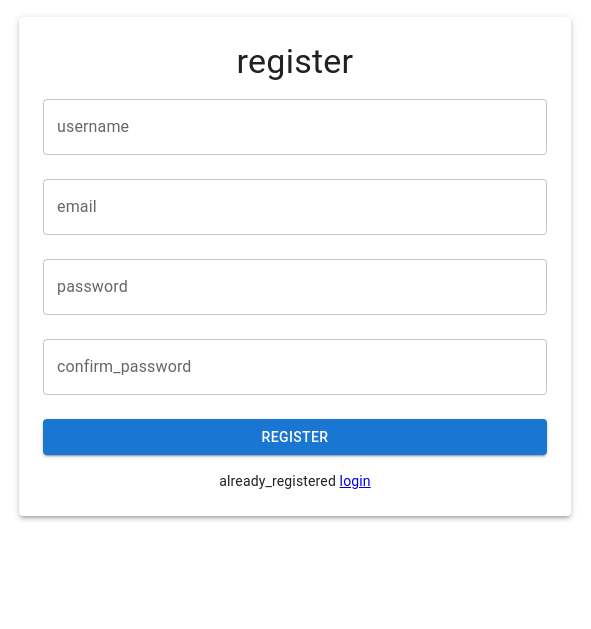
Test: Register Component › shows validation errors on empty submit
// Click Register button without filling form
Step 1. Click the button "register" → (295, 437), box [43,419,547,456]
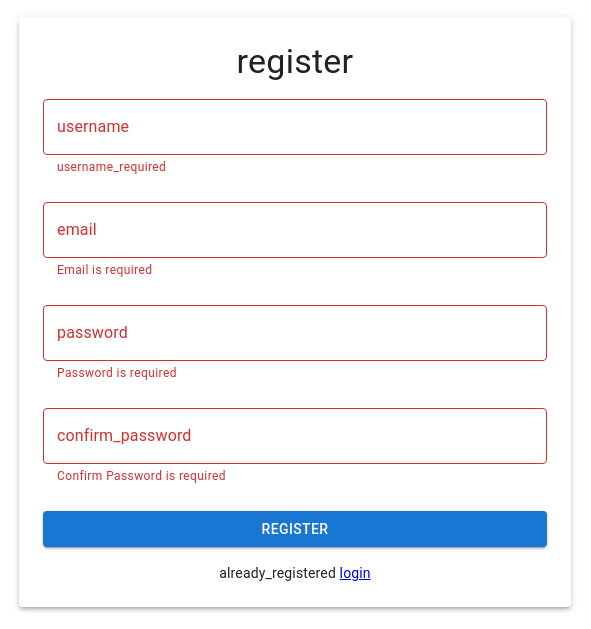
Result: the text "username_required" is shown at [57,160,166,174]
Result: the text "Email is required" is shown at [57,263,152,277]
